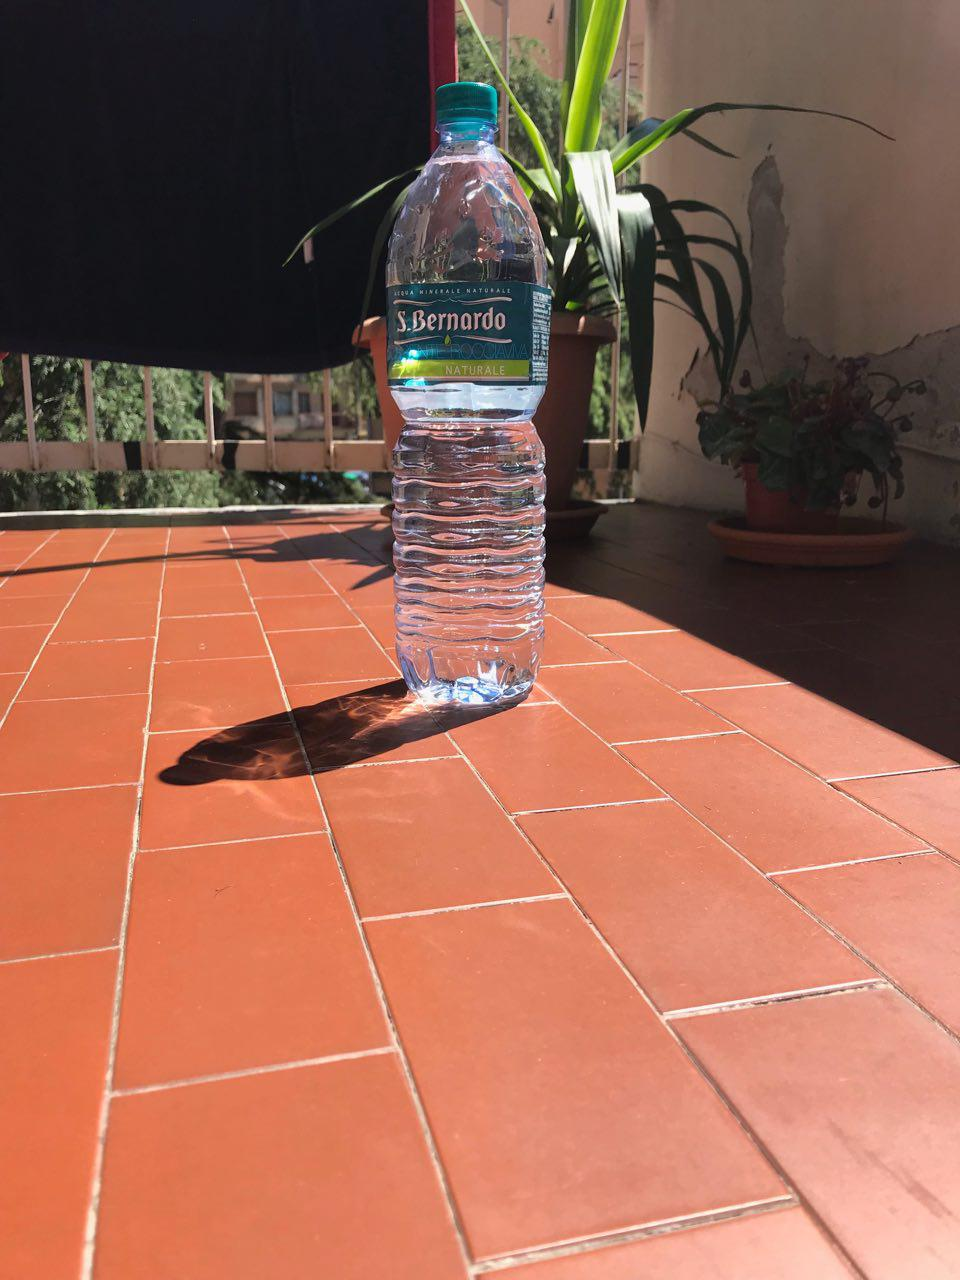san_bernardo: (384, 80, 552, 707)
